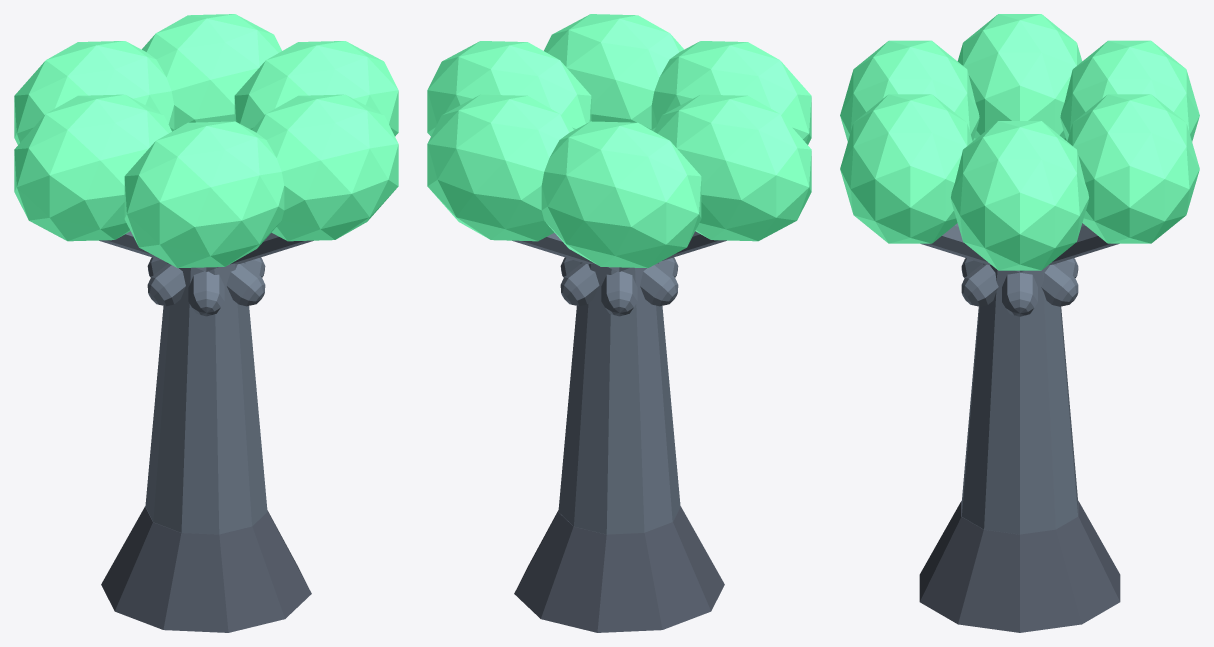
Rendered from AXM-MACHINE-TREE-001_LOD1.glb.
3 renders of one model, left to right at view 1: azimuth 30°, elevation 25°; view 2: azimuth 150°, elevation 25°; view 3: azimuth 270°, elevation 25°, orthographic.
Parts seen in each view (by area): view 1: trunk, crown__r04, root, crown__r03, crown__r05, crown__r01, crown__r00, crown__r02, branch__r01, branch__r02, branch__r00, branch__r05 (+1 smaller); view 2: trunk, crown__r02, root, crown__r03, crown__r01, crown__r05, crown__r00, crown__r04, branch__r05, branch__r04, branch__r00, branch__r01 (+1 smaller); view 3: trunk, root, crown__r00, crown__r01, crown__r05, crown__r03, crown__r02, crown__r04, branch__r03, branch__r02, branch__r04, branch__r01 (+1 smaller).
Part boxes in pixels (left/top/right/bottom): trunk: left=145, top=262, right=267, bottom=534; crown__r04: left=124, top=121, right=284, bottom=268; root: left=101, top=506, right=311, bottom=632; crown__r03: left=14, top=94, right=171, bottom=241; crown__r05: left=252, top=94, right=398, bottom=241; crown__r01: left=142, top=14, right=281, bottom=130; crown__r00: left=234, top=41, right=398, bottom=136; crown__r02: left=14, top=41, right=174, bottom=144; branch__r01: left=188, top=271, right=224, bottom=316; branch__r02: left=226, top=263, right=265, bottom=306; branch__r00: left=147, top=263, right=185, bottom=306; branch__r05: left=147, top=233, right=313, bottom=277; trunk: left=558, top=262, right=680, bottom=534; crown__r02: left=541, top=121, right=701, bottom=268; root: left=514, top=506, right=724, bottom=632; crown__r03: left=654, top=94, right=811, bottom=241; crown__r01: left=427, top=94, right=573, bottom=241; crown__r05: left=544, top=14, right=683, bottom=130; crown__r00: left=427, top=41, right=591, bottom=136; crown__r04: left=651, top=41, right=811, bottom=144; branch__r05: left=601, top=271, right=637, bottom=316; branch__r04: left=560, top=263, right=599, bottom=306; branch__r00: left=640, top=263, right=678, bottom=306; branch__r01: left=512, top=233, right=678, bottom=277; trunk: left=962, top=263, right=1077, bottom=534; root: left=919, top=500, right=1120, bottom=632; crown__r00: left=951, top=121, right=1088, bottom=270; crown__r01: left=1067, top=94, right=1199, bottom=243; crown__r05: left=840, top=94, right=972, bottom=243; crown__r03: left=957, top=14, right=1082, bottom=140; crown__r02: left=1060, top=40, right=1199, bottom=141; crown__r04: left=840, top=40, right=979, bottom=141; branch__r03: left=1002, top=272, right=1037, bottom=316; branch__r02: left=961, top=263, right=998, bottom=306; branch__r04: left=1041, top=263, right=1078, bottom=306; branch__r01: left=961, top=223, right=1119, bottom=277.
Size of the model in its own units: 2.48 by 3.23 by 2.05.
